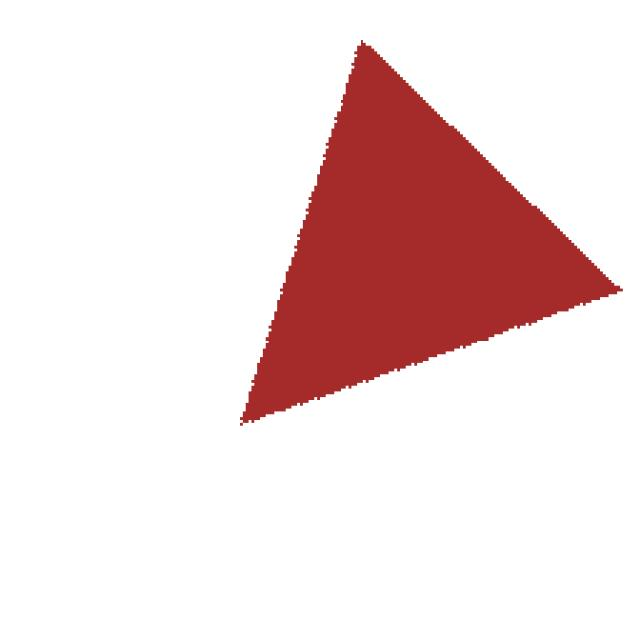Triangle: (233, 16, 637, 470)
